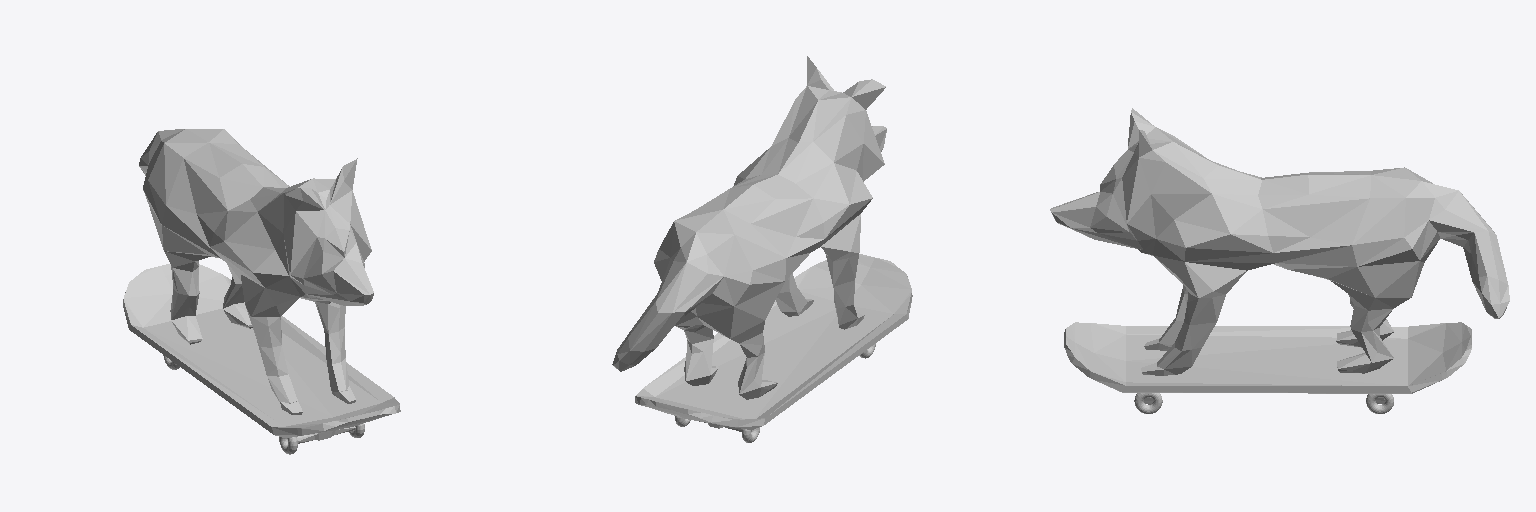
Rendered from Fuchs08.obj.
3 views of the same model, side by side, from view 1: azimuth 30°, elevation 25°; view 2: azimuth 150°, elevation 25°; view 3: azimuth 270°, elevation 25° (orthographic).
Bounding box in the file's own units: 3.58 × 7.89 × 11.63.